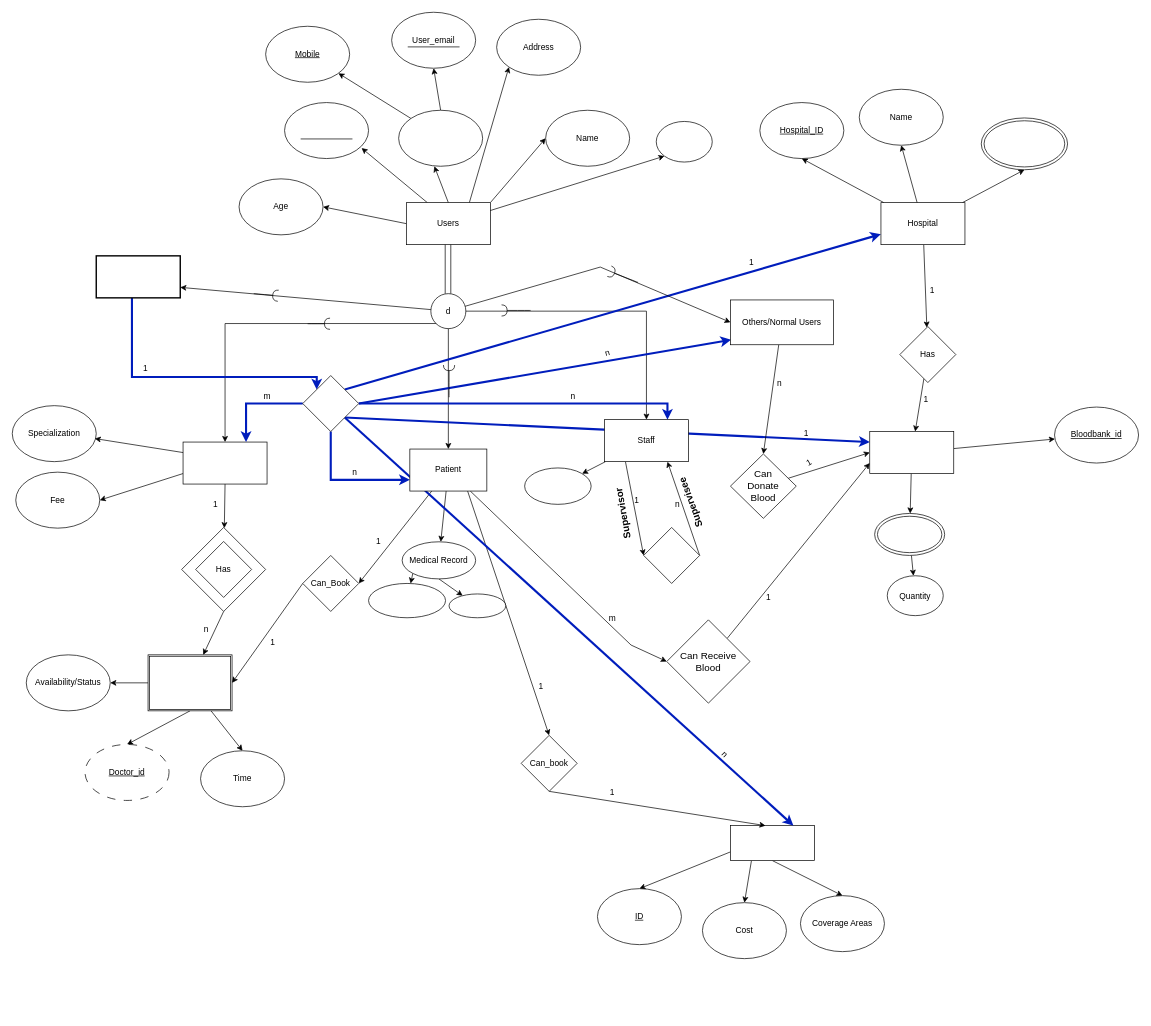
This 1151x1026 diagram has some shape labels left out. The shapes that lost their labels are listed below. From the top down, each one's centre as x and y in pixels, then its label:
the point at 326,130: User_id
the point at 440,138: Contacts
the point at 684,141: Password
the point at 1024,143: Branches/Location
the point at 138,276: Admin
the point at 330,403: Manages
the point at 224,462: Doctor
the point at 911,452: Blood_Bank
the point at 557,485: Salary
the point at 909,534: Blood Groups
the point at 671,555: Supervise
the point at 407,600: Disease/Problem
the point at 477,605: DATE
the point at 189,682: Appointments
the point at 772,843: Ambulance
